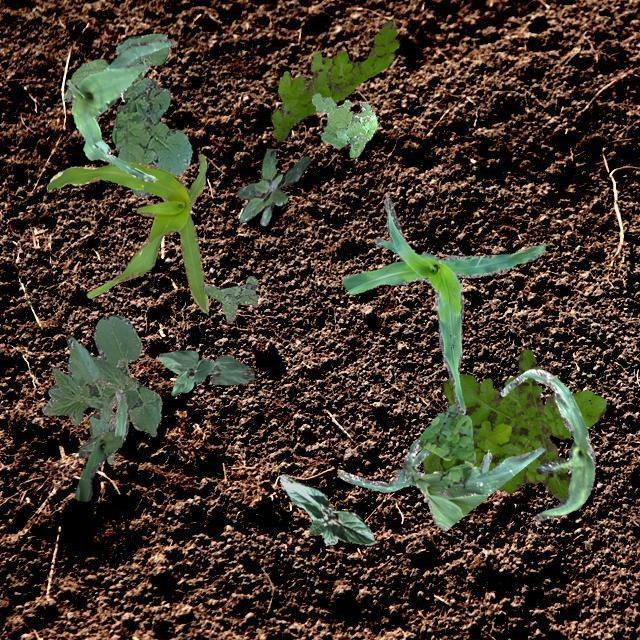crop: (340, 196, 544, 414), (46, 152, 208, 312), (338, 436, 544, 530), (42, 314, 160, 462), (64, 38, 174, 180), (499, 368, 594, 520), (62, 33, 170, 100), (278, 474, 374, 544), (74, 388, 126, 501), (158, 349, 252, 384), (170, 358, 217, 394)
weed: (422, 348, 606, 500), (270, 20, 398, 140), (110, 76, 192, 196), (236, 148, 308, 225), (418, 402, 474, 487), (310, 92, 376, 156), (202, 274, 256, 322)
